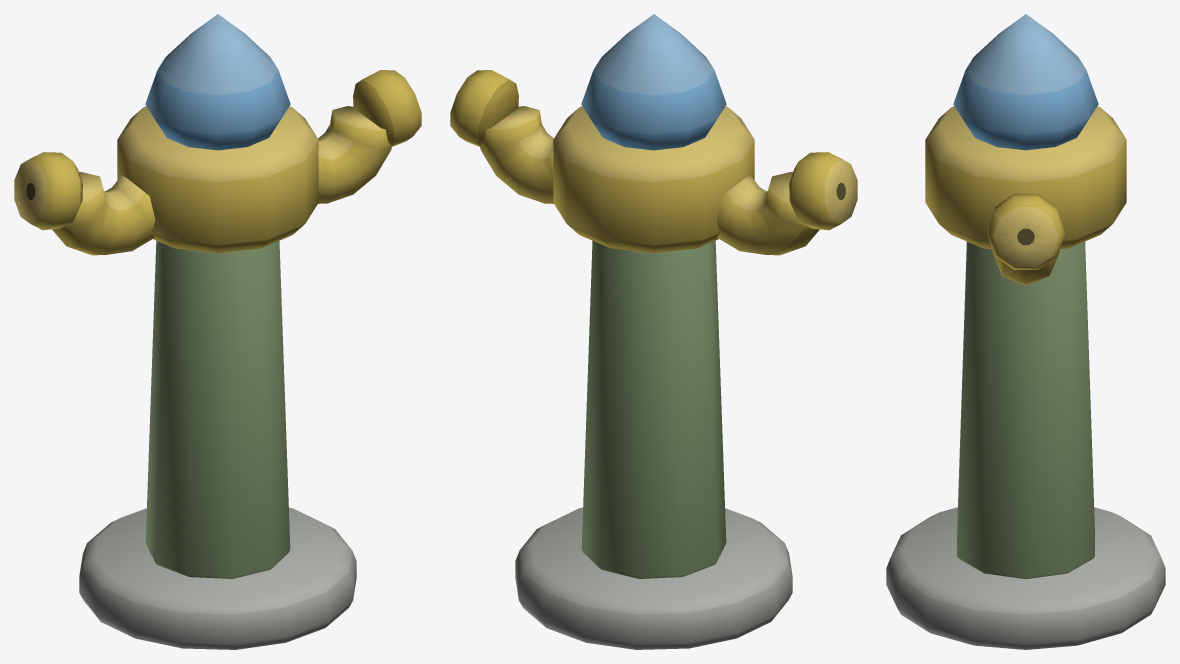
Rendered from sprinkler.glb.
The picture shows the model from 3 angles, left to right: view 1: azimuth 30°, elevation 25°; view 2: azimuth 150°, elevation 25°; view 3: azimuth 270°, elevation 25°; orthographic projection.
Parts seen in each view (by area): view 1: base, head; view 2: base, head; view 3: base, head.
Boxes of the visible parts, x1,y1,x2,y2 form: base: (79, 240, 356, 649); head: (14, 14, 421, 255); base: (515, 240, 792, 649); head: (450, 14, 857, 255); base: (886, 241, 1165, 649); head: (925, 14, 1126, 285).
Size of the model in its own units: 0.3974 by 0.575 by 0.25.
